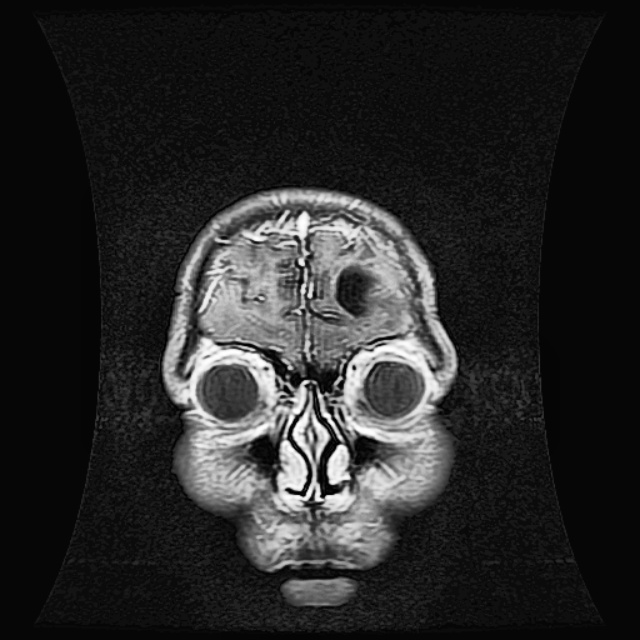Meningioma: (335, 267, 379, 313)
